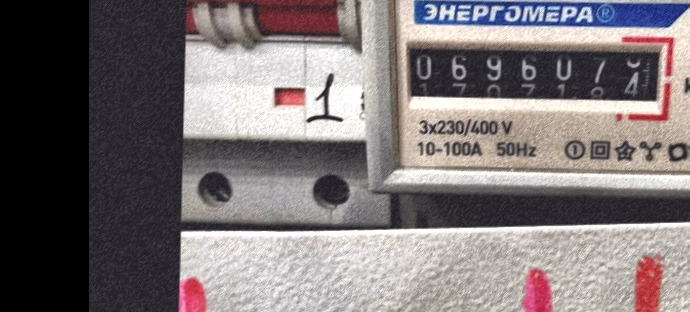0: (414, 50, 435, 81), (555, 51, 575, 81)
4: (622, 68, 642, 97)
6: (448, 50, 471, 81), (520, 52, 540, 80)
7: (590, 53, 608, 83)
9: (485, 52, 504, 82)
screen: (390, 23, 677, 120)
